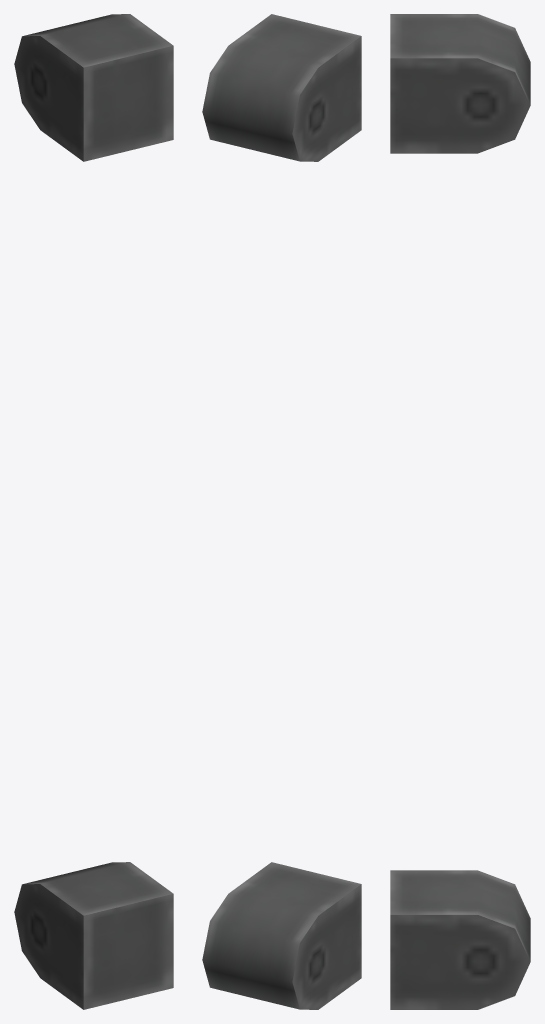
Rendered from vela_landing_leg_srf_1_base.obj.
3 renders of one model, left to right at view 1: azimuth 30°, elevation 25°; view 2: azimuth 150°, elevation 25°; view 3: azimuth 270°, elevation 25°, orthographic.
Visible parts, largest first — view 1: vela_landing_leg_srf_1_base; view 2: vela_landing_leg_srf_1_base; view 3: vela_landing_leg_srf_1_base.
Boxes of the visible parts, x1=… form: vela_landing_leg_srf_1_base: x1=14, y1=14, x2=173, y2=1009; vela_landing_leg_srf_1_base: x1=202, y1=14, x2=361, y2=1009; vela_landing_leg_srf_1_base: x1=390, y1=14, x2=530, y2=1009.
Size of the model in its own units: 0.075 by 0.75 by 0.1.
